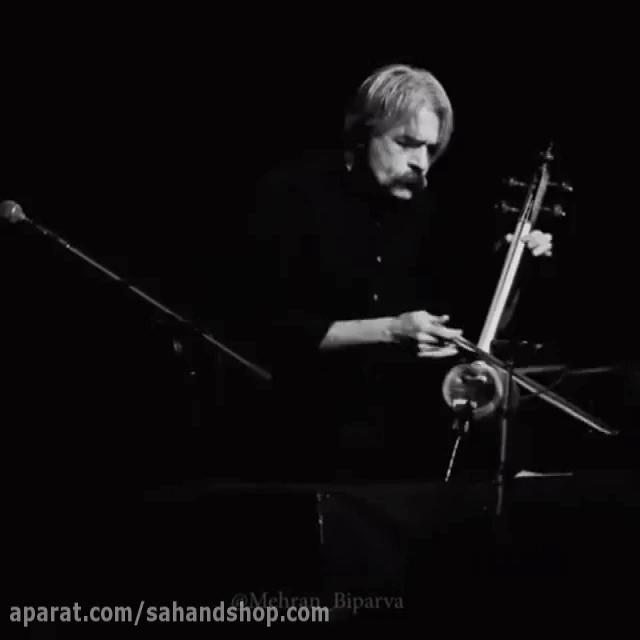Kamanche: (431, 133, 590, 434)
